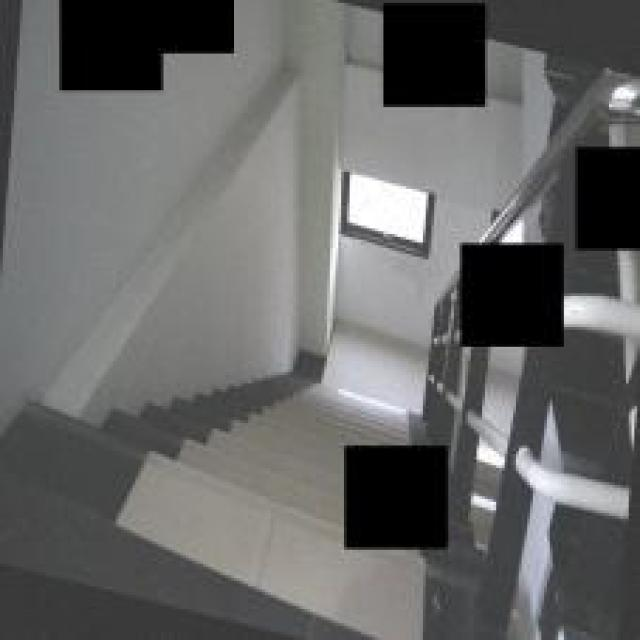downstair: (194, 364, 336, 626)
